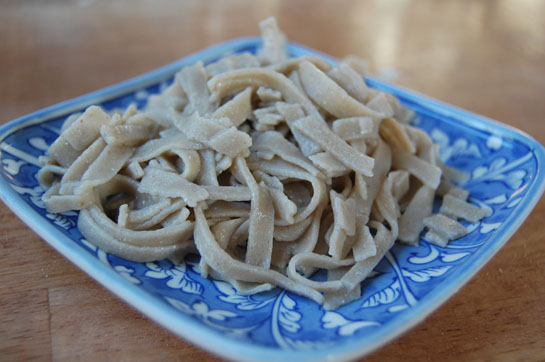Soba: (53, 41, 464, 301)
